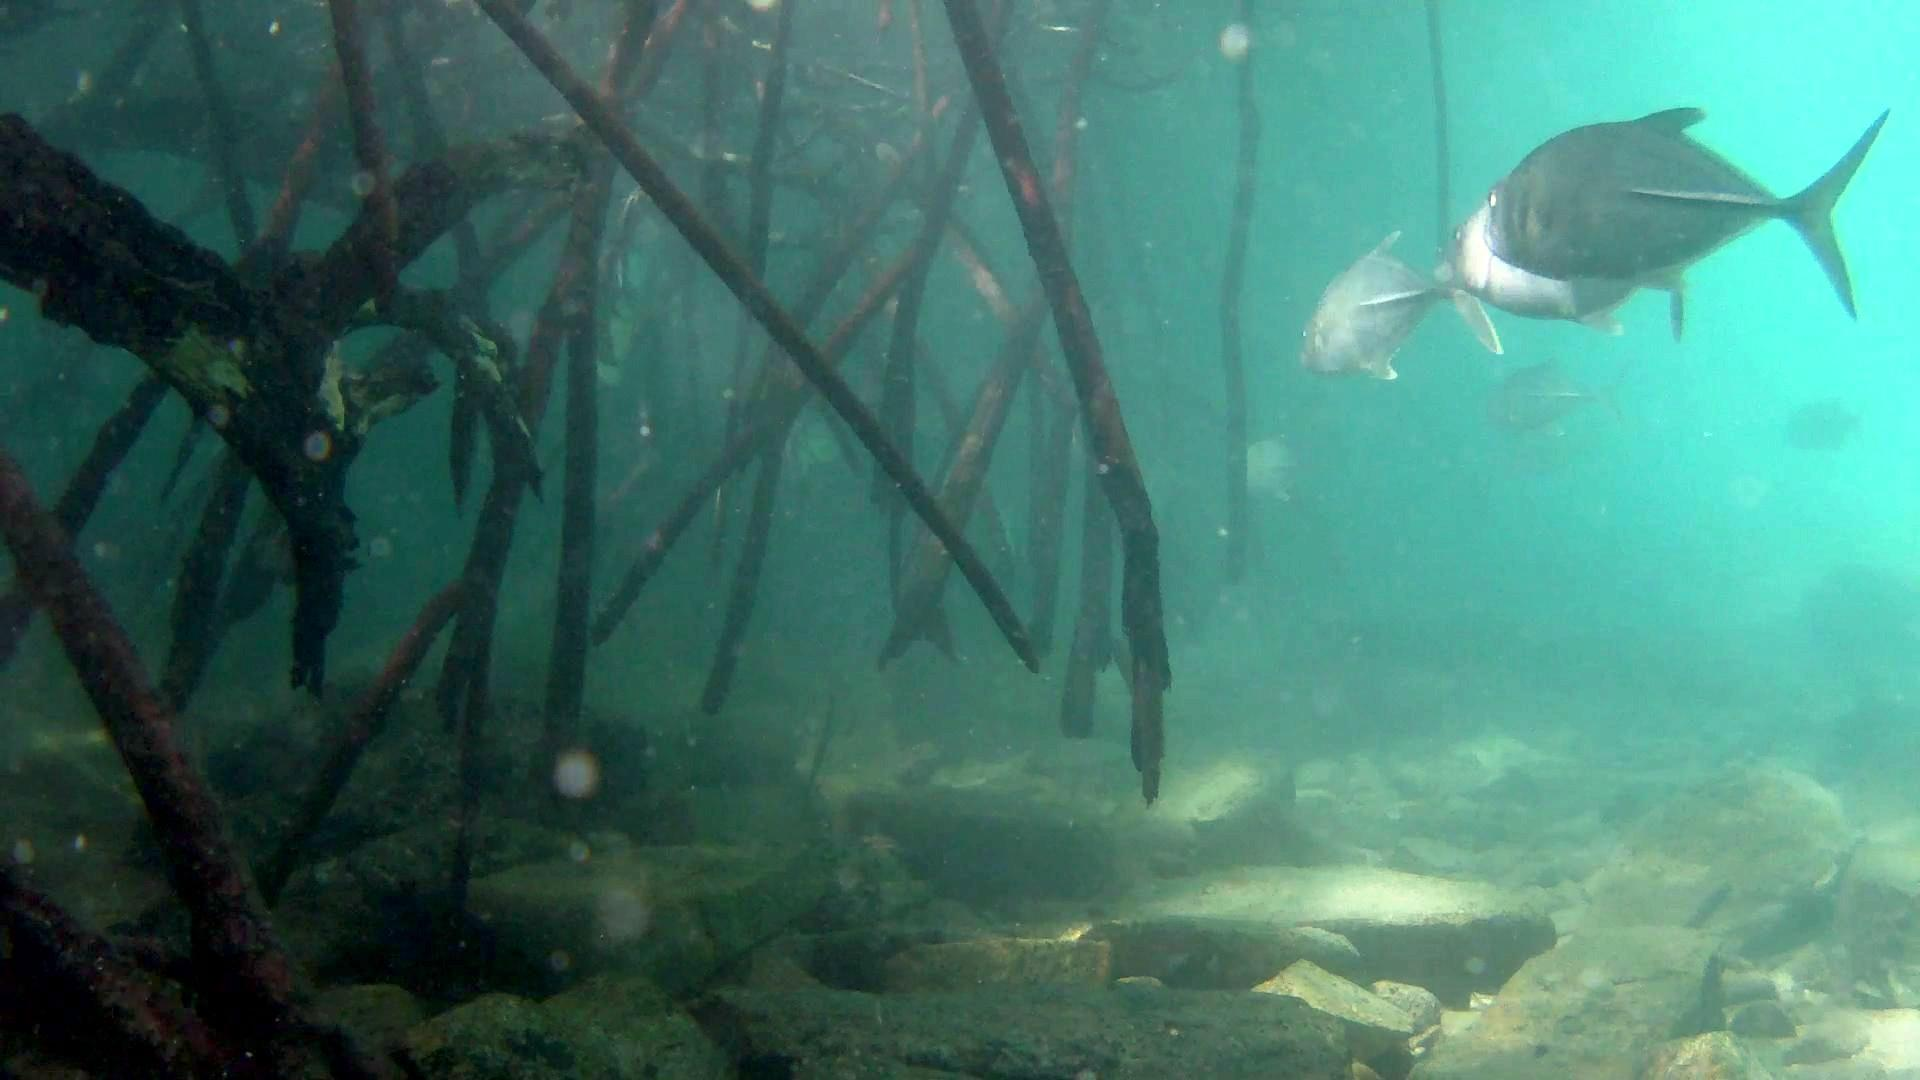caranx: (1484, 99, 1896, 324), (1290, 223, 1507, 392)
